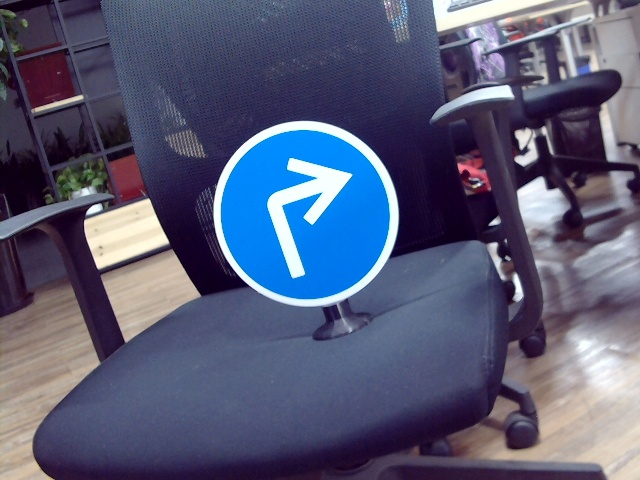turn_right: (257, 151, 356, 278)
